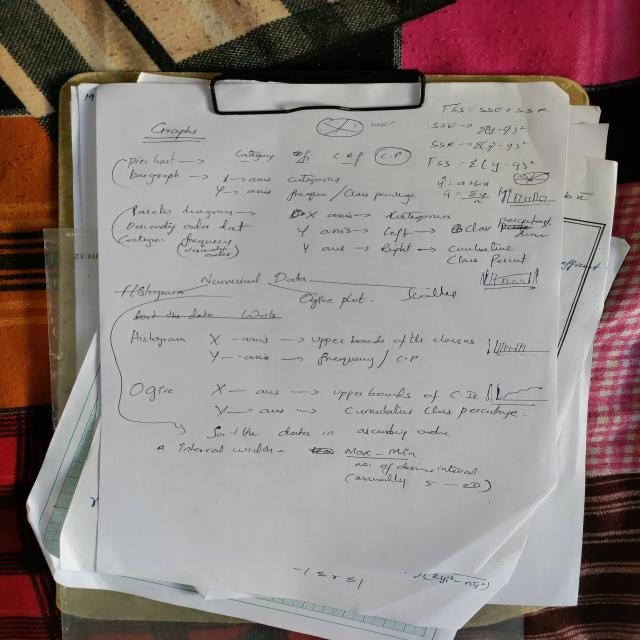dry: (105, 255, 524, 588), (197, 77, 457, 116)
